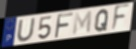5: (38, 15, 53, 40)
F: (110, 3, 131, 34), (53, 12, 74, 40)
M: (71, 10, 93, 37)
Q: (94, 9, 110, 33)
U: (16, 17, 37, 43)
